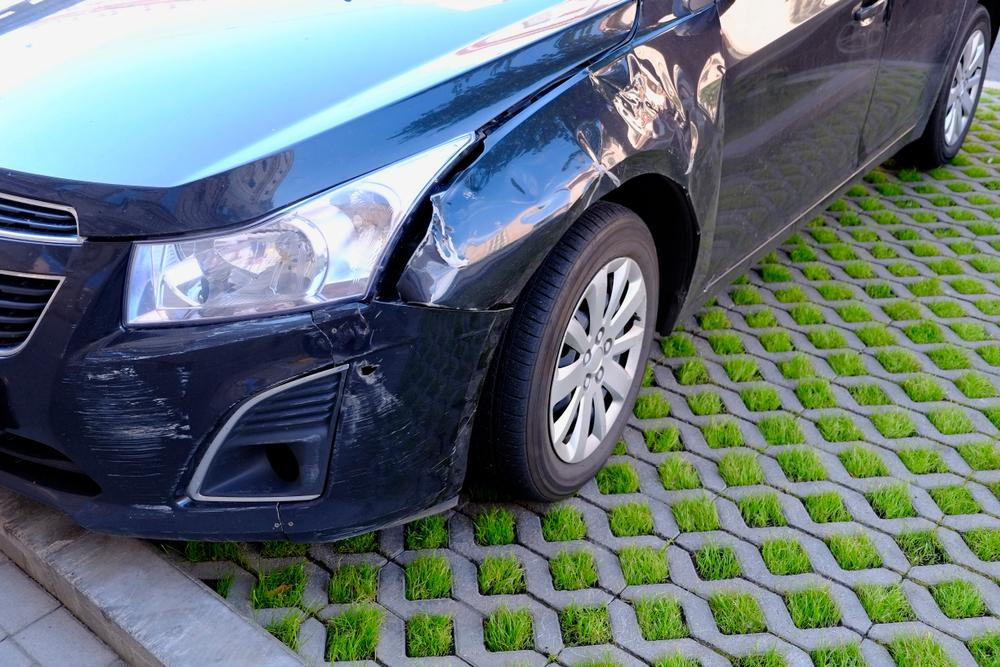crack: (308, 311, 334, 364), (276, 504, 289, 542)
dent: (431, 49, 677, 270)
scratch: (69, 341, 196, 487), (345, 359, 406, 444)
